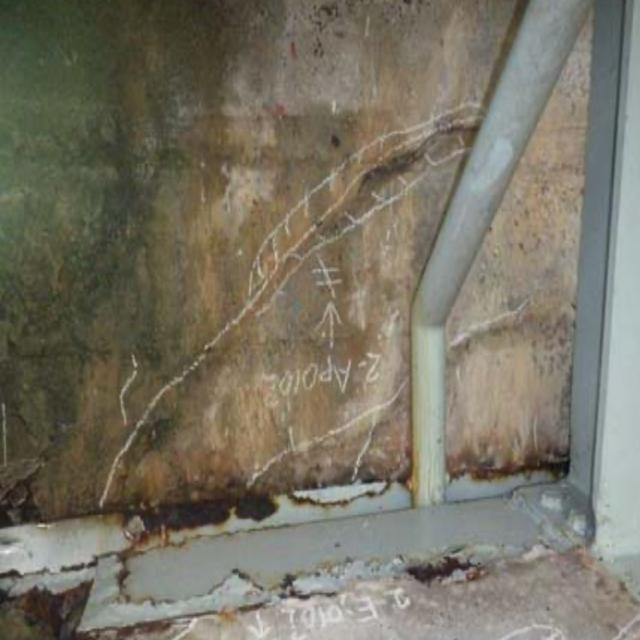corrosion: (9, 463, 587, 616)
